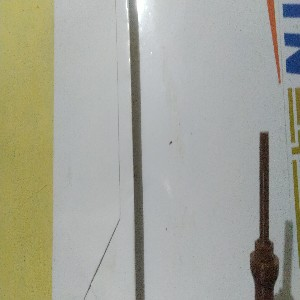obeng: (249, 130, 281, 300)
